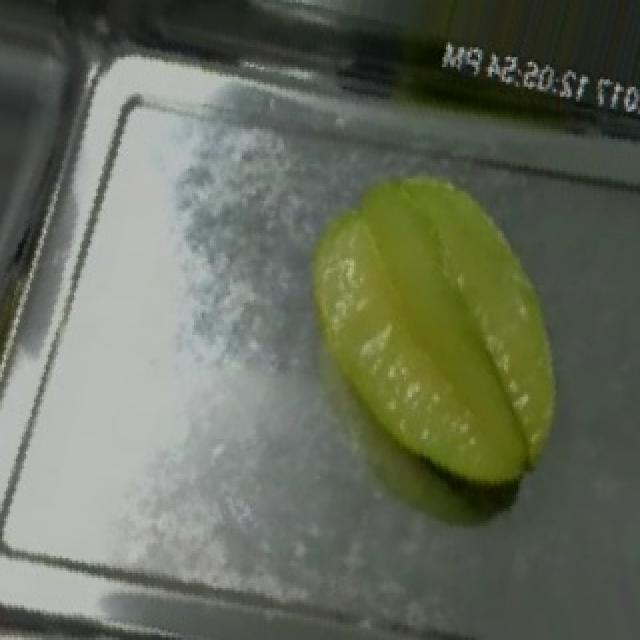fruit: (268, 136, 634, 526)
